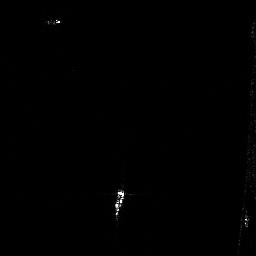ship: (113, 189, 127, 214)
